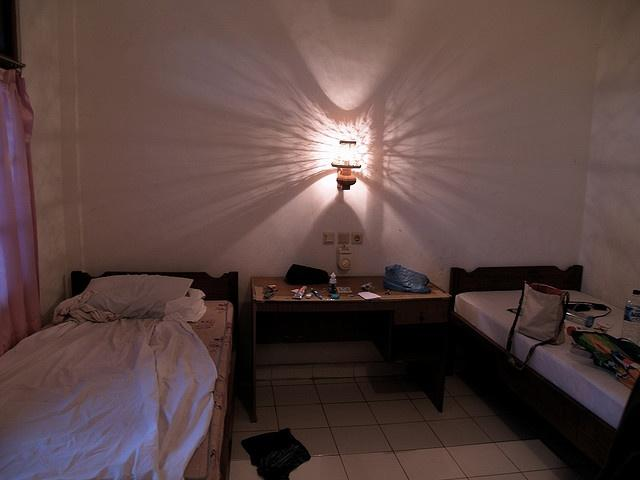Meja: (246, 271, 453, 419)
